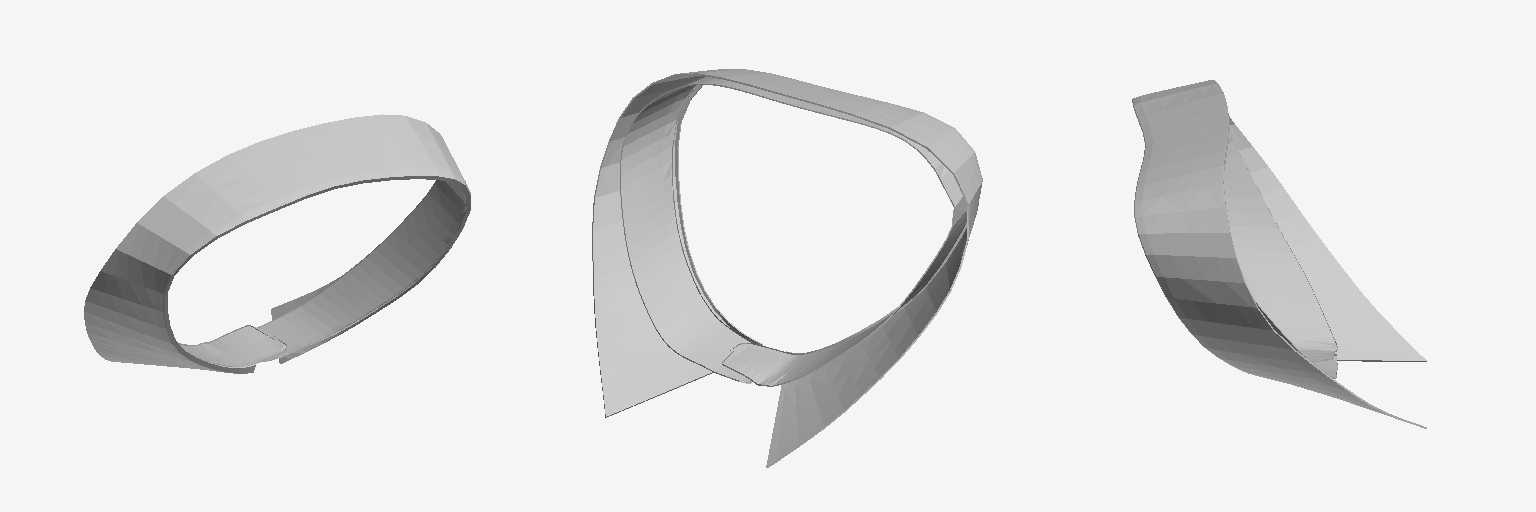
Rendered from regular_collar.obj.
The picture shows the model from 3 angles: view 1: azimuth 30°, elevation 25°; view 2: azimuth 150°, elevation 25°; view 3: azimuth 270°, elevation 25°; orthographic projection.
Parts seen in each view (by area): view 1: 1__regular_collar, inner_collar_out; view 2: 1__regular_collar, inner_collar_out; view 3: 1__regular_collar, inner_collar_out.
Part boxes in pixels (bbox=[...]): 1__regular_collar: bbox=[84, 114, 470, 373]; inner_collar_out: bbox=[178, 180, 465, 366]; 1__regular_collar: bbox=[592, 69, 982, 467]; inner_collar_out: bbox=[620, 77, 966, 386]; 1__regular_collar: bbox=[1132, 80, 1426, 428]; inner_collar_out: bbox=[1224, 130, 1337, 378].
Bounding box in the file's own units: 18 × 13.56 × 12.83.